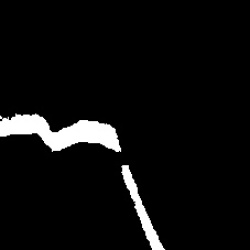crack: (3, 115, 120, 152), (120, 166, 166, 247)
pinhole: (2, 113, 122, 152)
